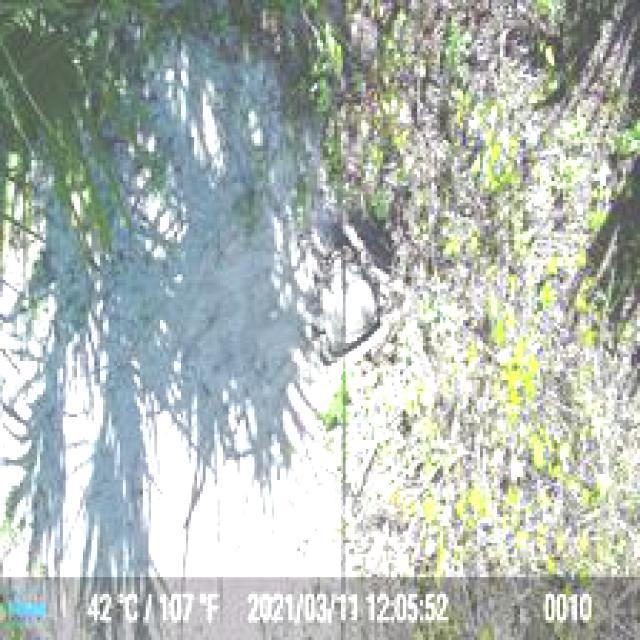tortoise: (309, 269, 377, 355)
